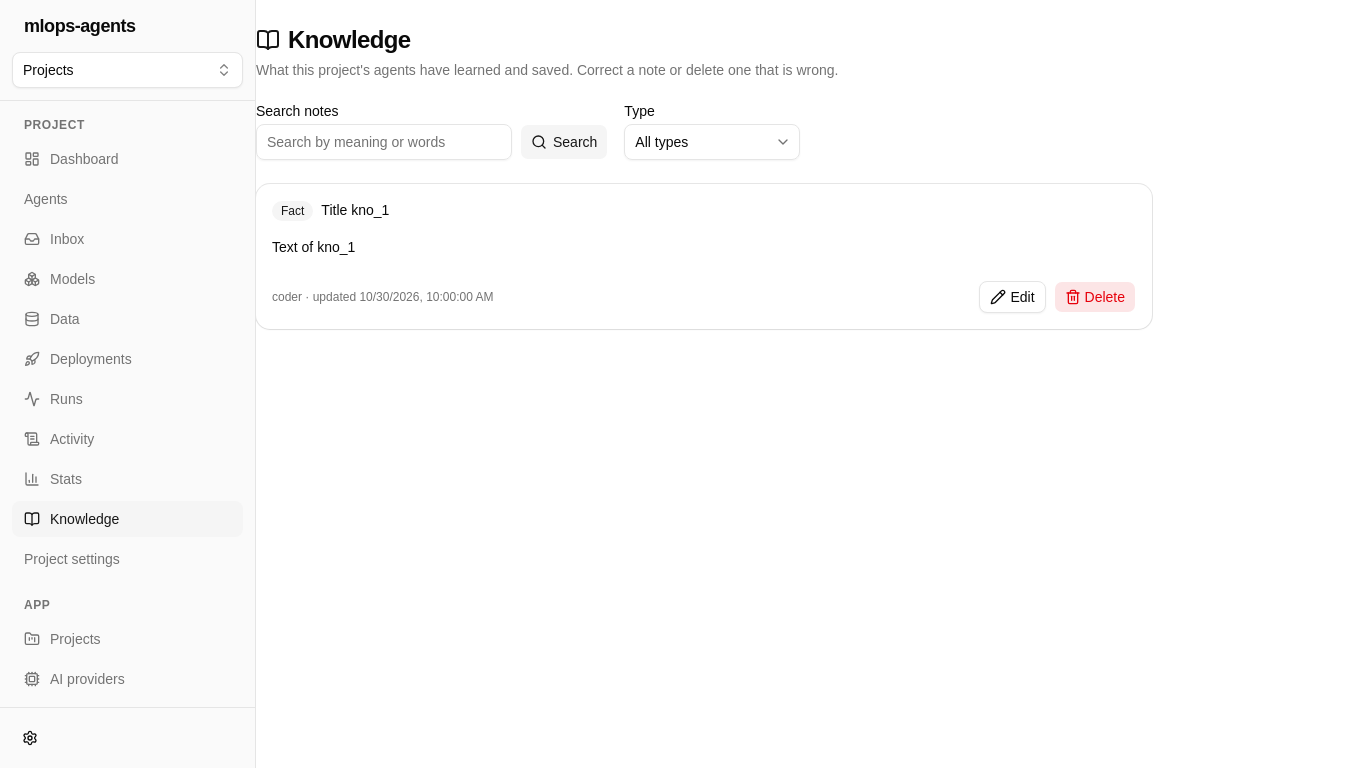
Test: KnowledgePage › does not send a request when nothing changed
This screenshot has width=1366, height=768.
Click the button "Edit": (1012, 297) [979,281,1046,313]
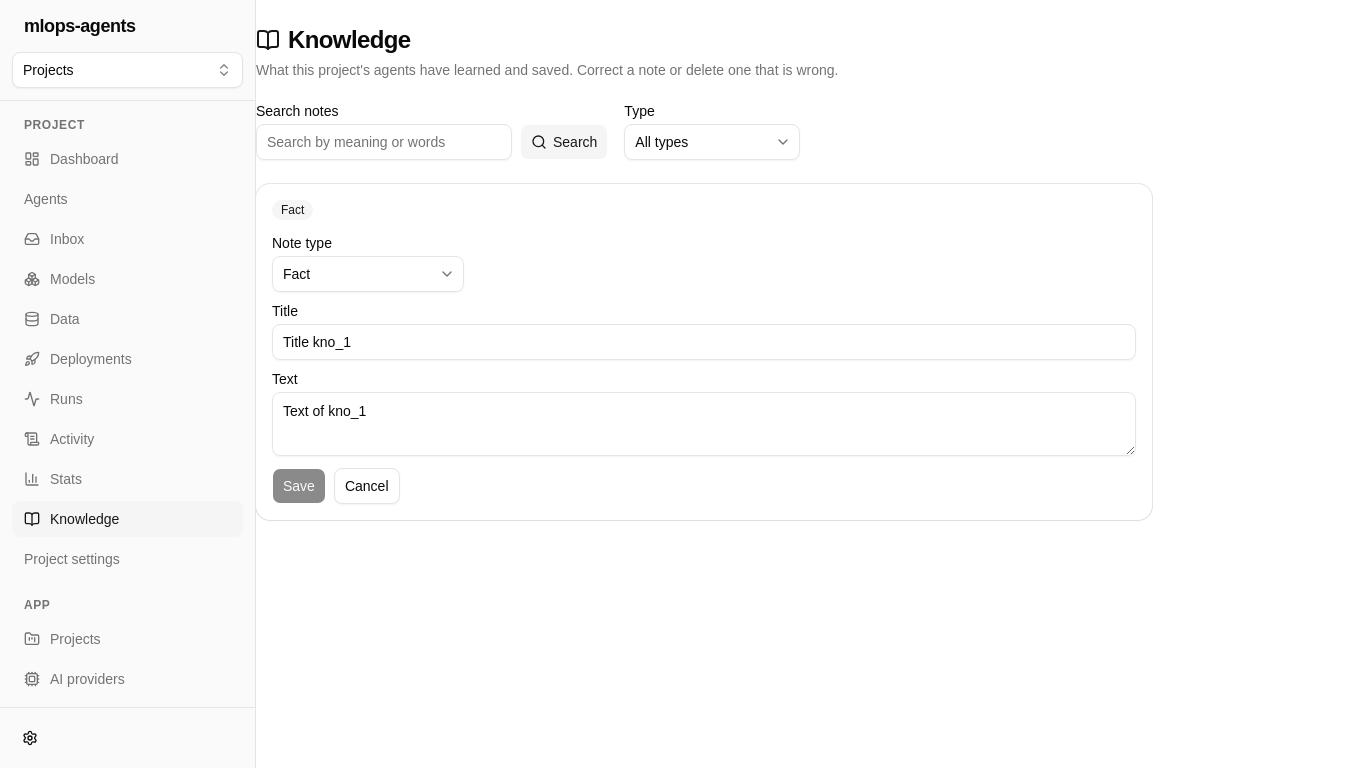
expect the button "Save" is disabled: met, box [272,468,326,504]
